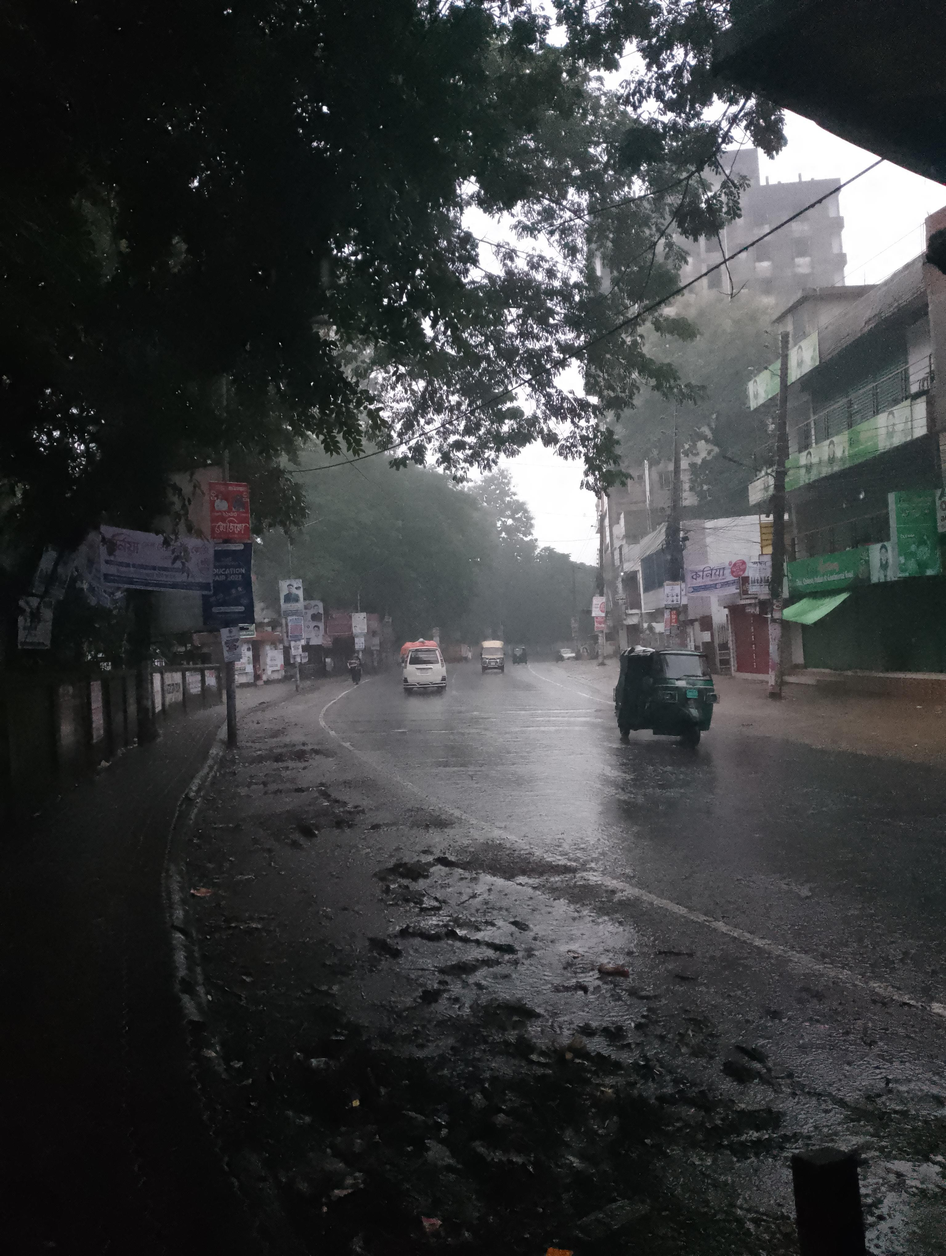Car: (386, 626, 463, 709), (469, 626, 517, 688)
